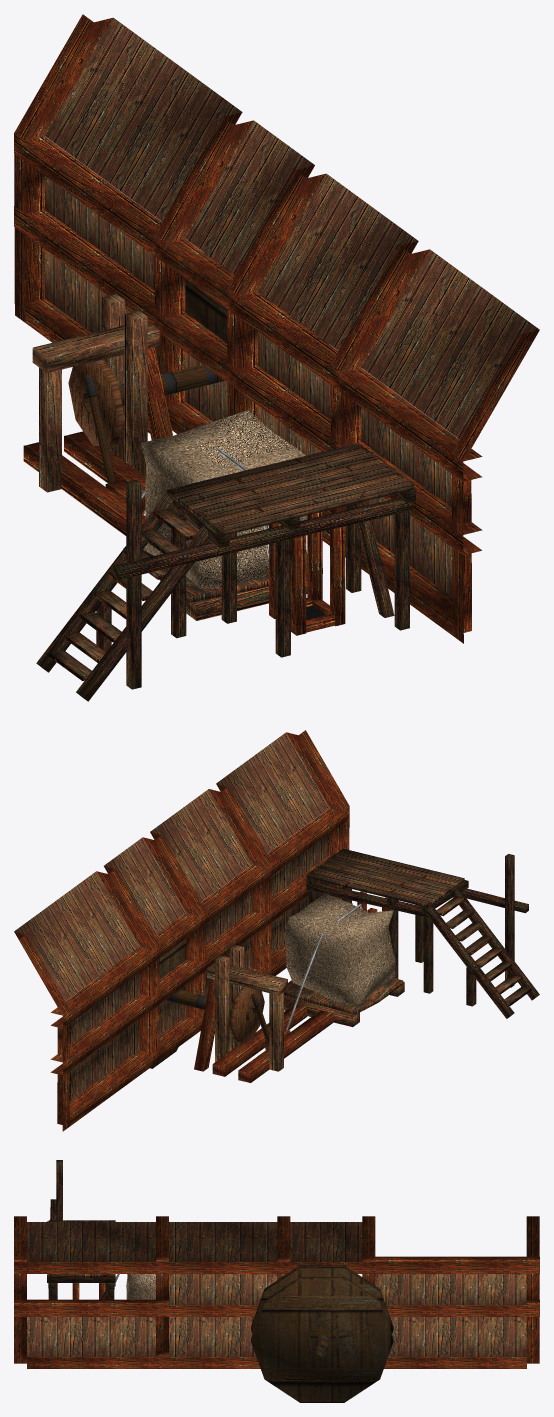
The model's file is ob_DRAHTSAEGE.glb.
The picture shows the model from 3 angles, top to bottom: view 1: azimuth 30°, elevation 25°; view 2: azimuth 150°, elevation 25°; view 3: azimuth 270°, elevation 25°; orthographic projection. The views are drawn at different scales.
Bounding box in the file's own units: 182 × 122 × 315.
13 materials, 13 textured.
